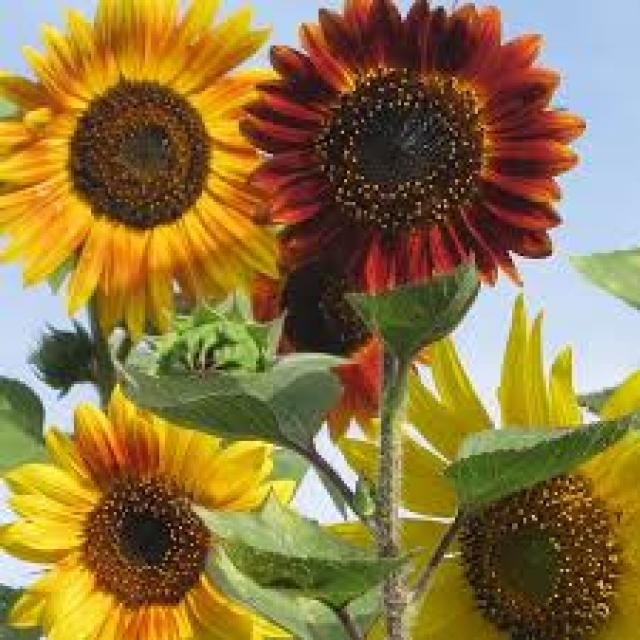sunflower: (228, 1, 599, 315), (322, 275, 637, 640), (0, 0, 341, 335), (0, 355, 321, 640), (208, 194, 457, 433)
